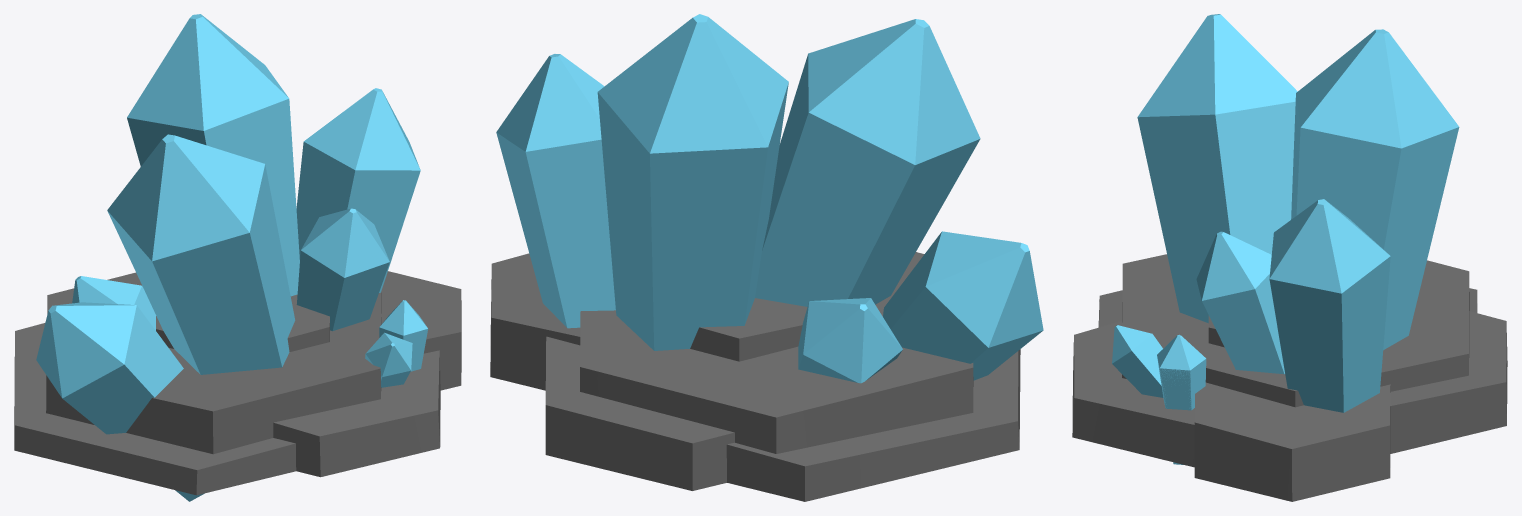
Rendered from diamand.glb.
The picture shows the model from 3 angles, left to right: view 1: azimuth 30°, elevation 25°; view 2: azimuth 150°, elevation 25°; view 3: azimuth 270°, elevation 25°; orthographic projection. The views are drawn at different scales.
Visible parts, largest first — view 1: Circle.002, mountain_A; view 2: Circle.002, mountain_A; view 3: Circle.002, mountain_A.
Boxes of the visible parts, x1,y1,x2,y2 form: Circle.002: (36, 14, 427, 501); mountain_A: (14, 271, 461, 495); Circle.002: (496, 14, 1043, 383); mountain_A: (490, 252, 1020, 501); Circle.002: (1112, 14, 1459, 464); mountain_A: (1072, 254, 1507, 501).
Size of the model in its own units: 1.3 by 1.14 by 1.06.
